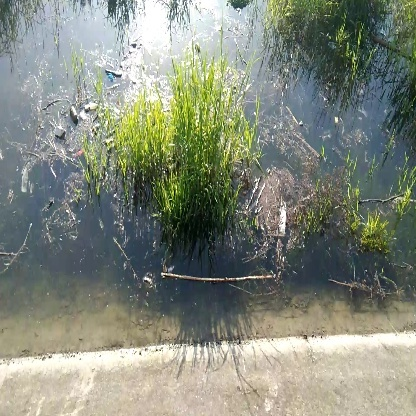branch: (151, 260, 287, 297)
grass: (122, 90, 248, 230)
